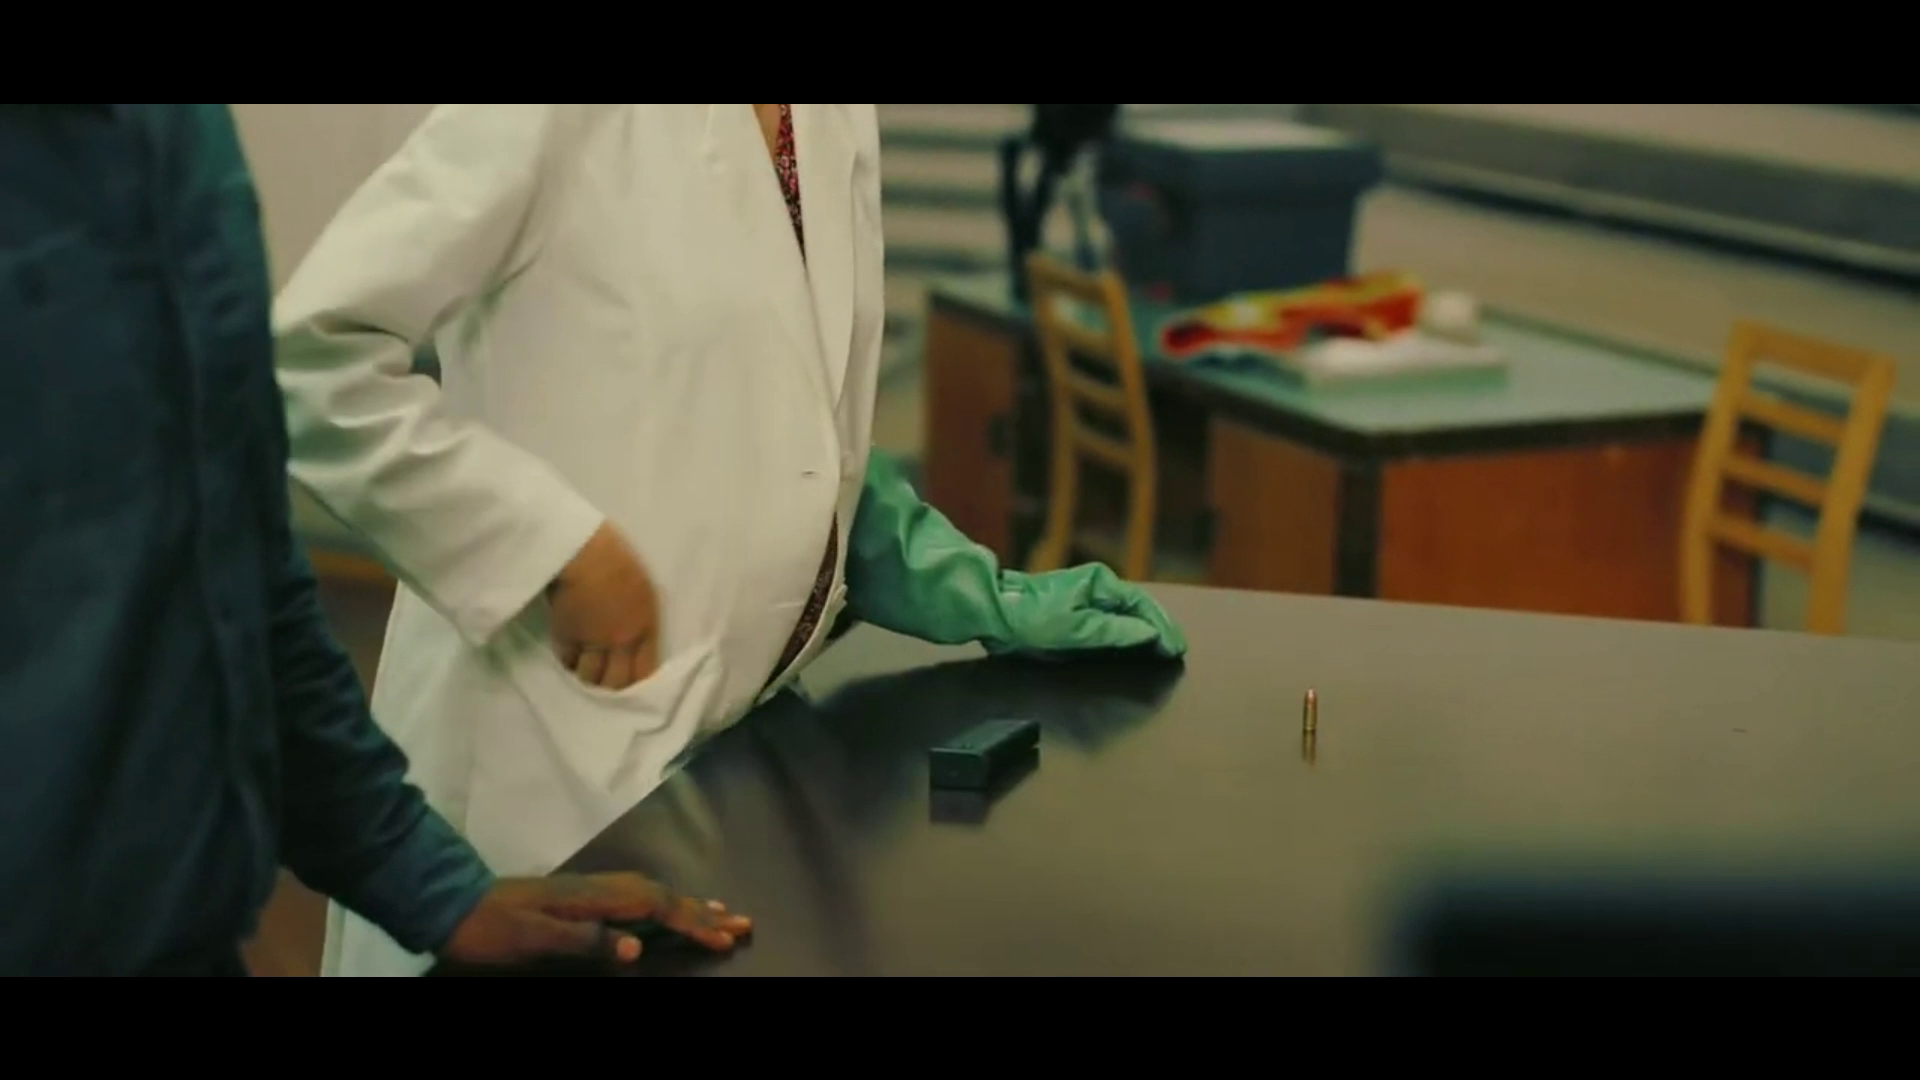Bullet: (1302, 687, 1319, 733)
